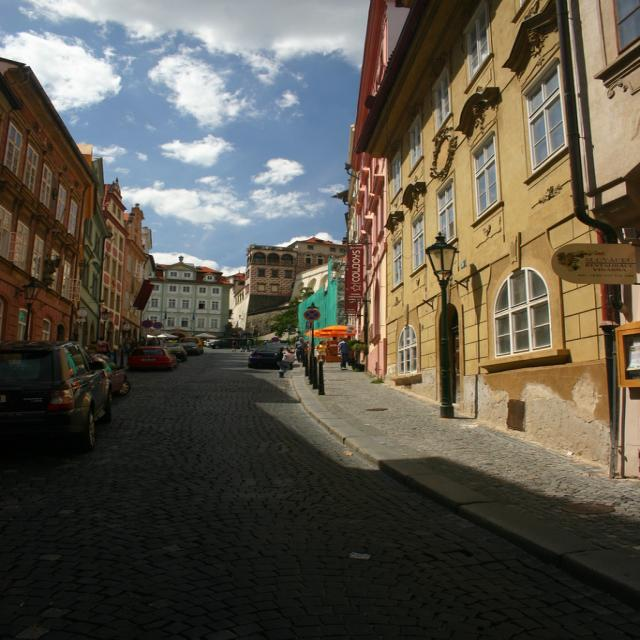car: (249, 341, 275, 368)
